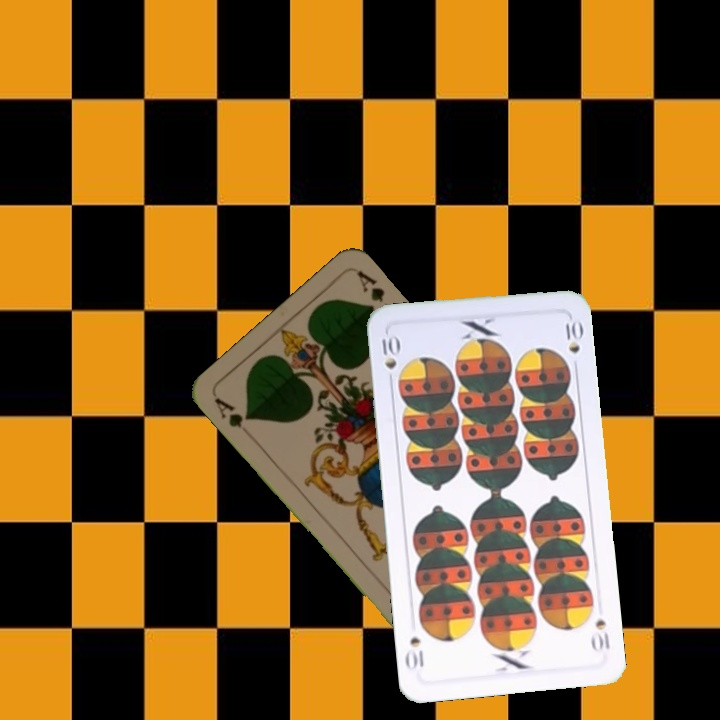GA: (210, 393, 255, 431)
S10: (378, 329, 401, 372), (588, 616, 613, 654)
